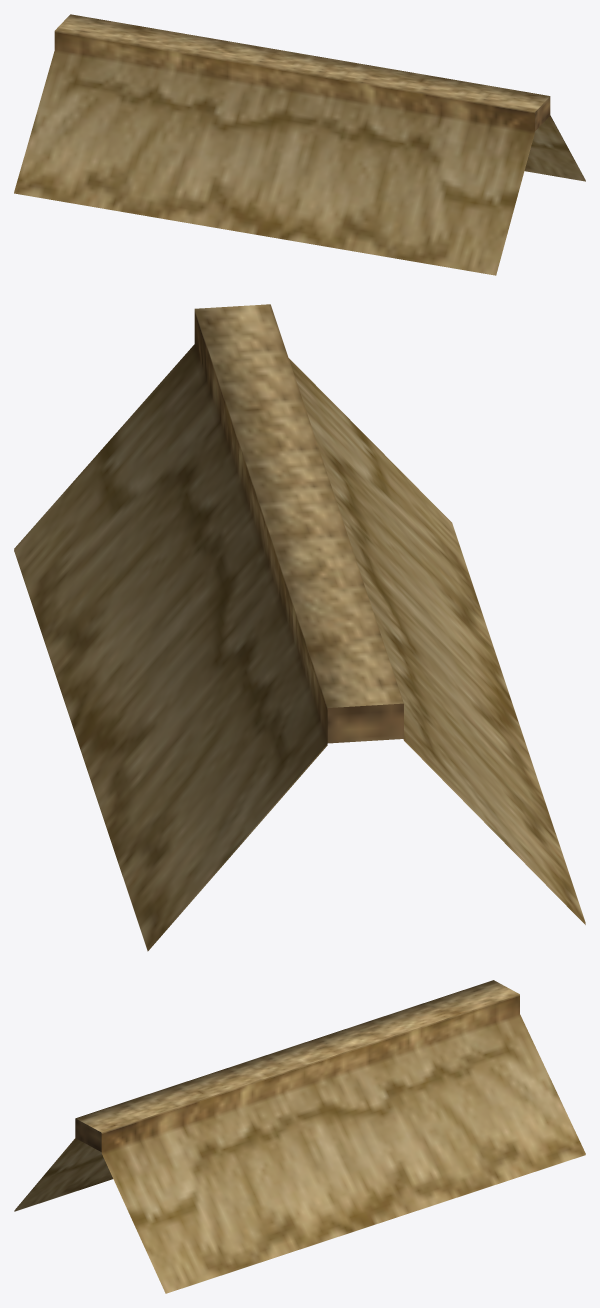
The model's file is Area_02_11.fbx.
3 renders of one model, top to bottom at view 1: azimuth 30°, elevation 25°; view 2: azimuth 150°, elevation 25°; view 3: azimuth 270°, elevation 25°, orthographic. The views are drawn at different scales.
Visible parts, largest first — view 1: Area_02_11; view 2: Area_02_11; view 3: Area_02_11.
Boxes of the visible parts, x1,y1,x2,y2 form: Area_02_11: (14, 14, 585, 275); Area_02_11: (14, 304, 585, 951); Area_02_11: (14, 980, 585, 1293).
Bounding box in the file's own units: 372 × 101 × 407.
